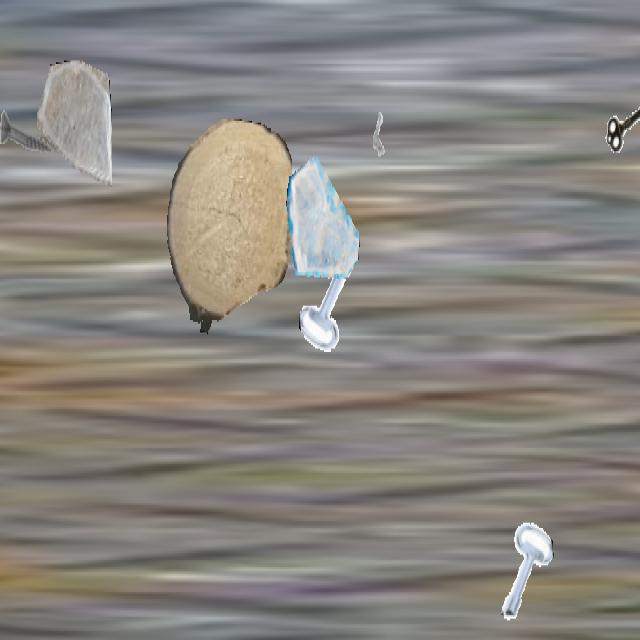glass: (37, 60, 111, 192), (286, 151, 360, 283)
metal: (299, 247, 361, 357), (0, 76, 60, 186), (494, 516, 554, 622), (603, 74, 640, 178), (360, 92, 398, 160)
wood: (167, 119, 291, 336)
